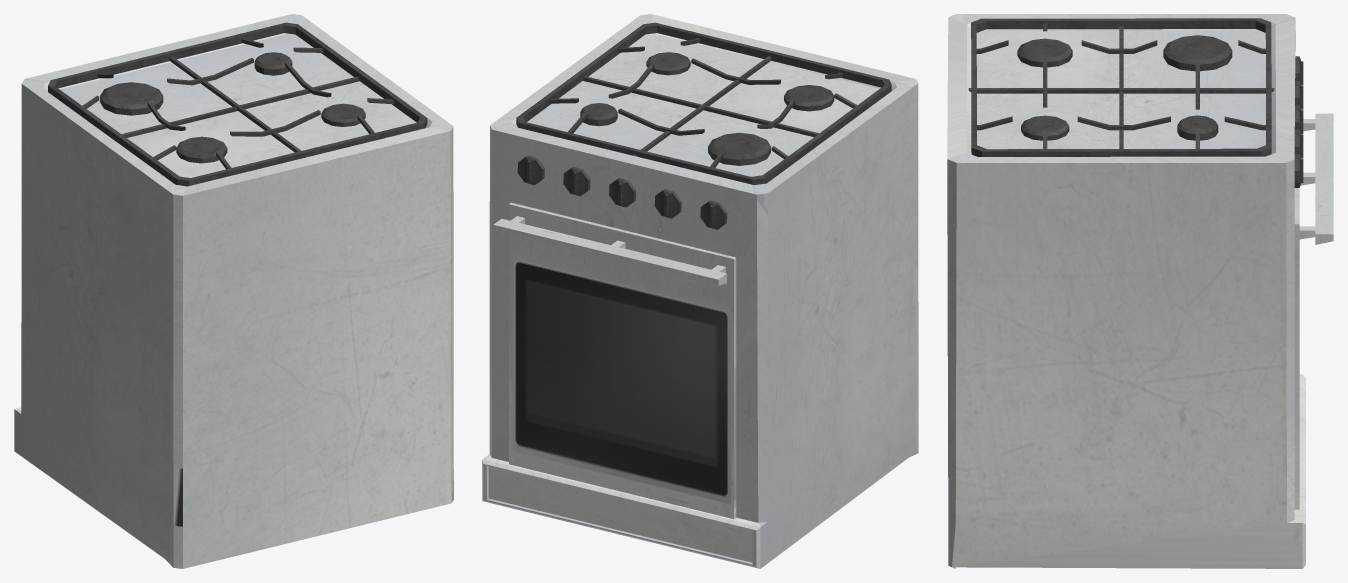
The model's file is Oven.fbx.
The picture shows the model from 3 angles, left to right: view 1: azimuth 30°, elevation 25°; view 2: azimuth 150°, elevation 25°; view 3: azimuth 270°, elevation 25°; orthographic projection. The views are drawn at different scales.
Parts seen in each view (by area): view 1: Oven; view 2: Oven; view 3: Oven.
Part boxes in pixels (x1=…): Oven: x1=14, y1=14, x2=453, y2=568; Oven: x1=482, y1=14, x2=918, y2=568; Oven: x1=947, y1=14, x2=1333, y2=568.
Size of the model in its own units: 0.3043 by 0.396 by 0.3338.
1 material, 1 textured.
